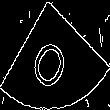O_NE: (31, 20, 79, 90)
